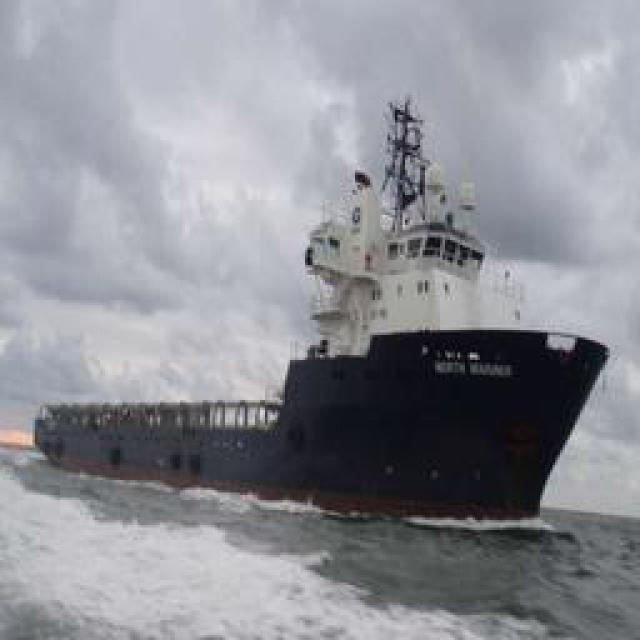Ship: (23, 103, 617, 535)
